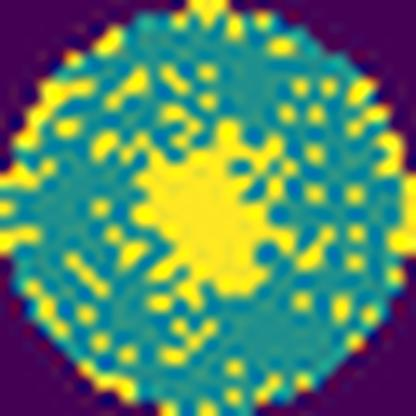Center: (119, 114, 300, 314)
